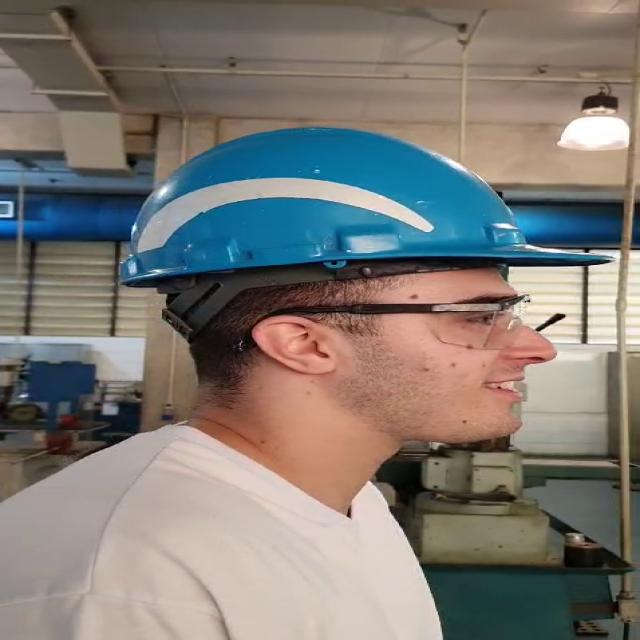oculos-epi: (265, 296, 528, 349)
